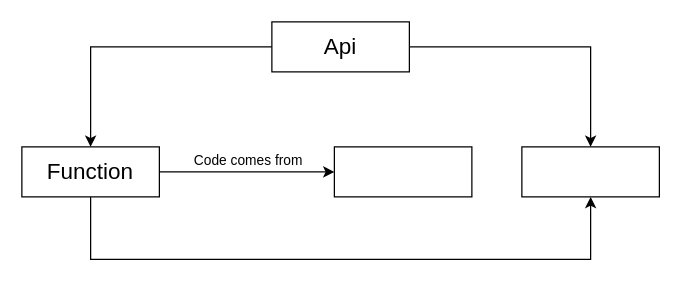
This 681x291 diagram has some shape labels left out. The shapes that lost their labels are listed below. From the top down, each one's centre as x and y in pixels, then its label:
the point at 402,171: CodeBucket
the point at 590,171: AppRole
